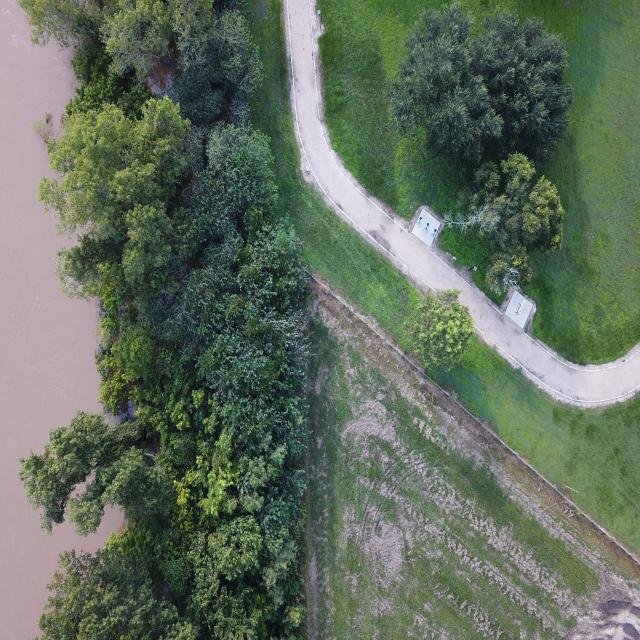fire: (0, 0, 123, 639)
